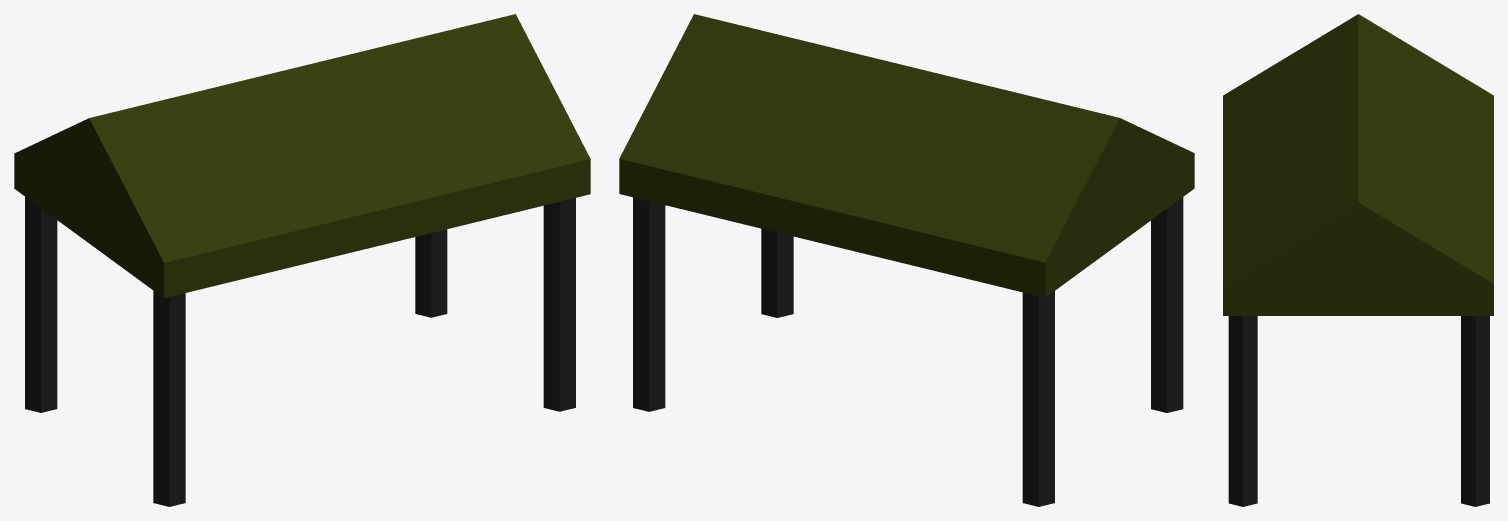
Rendered from Tent.fbx.
3 views of the same model, side by side, from view 1: azimuth 30°, elevation 25°; view 2: azimuth 150°, elevation 25°; view 3: azimuth 270°, elevation 25° (orthographic). The views are drawn at different scales.
Visible parts, largest first — view 1: Tent; view 2: Tent; view 3: Tent.
Boxes of the visible parts, x1,y1,x2,y2 form: Tent: [14, 14, 590, 506]; Tent: [619, 14, 1194, 506]; Tent: [1223, 14, 1493, 506].
Bounding box in the file's own units: 624 × 473 × 379.
